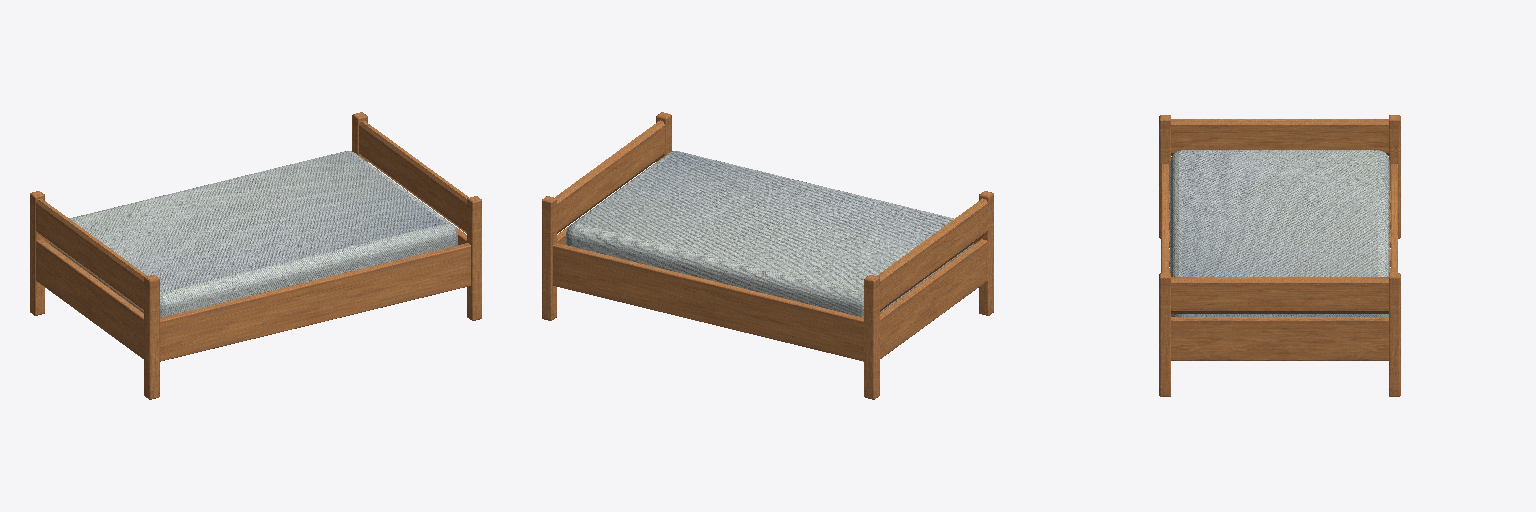
3 views of the same model, side by side, from view 1: azimuth 30°, elevation 25°; view 2: azimuth 150°, elevation 25°; view 3: azimuth 270°, elevation 25° (orthographic).
Parts seen in each view (by area): view 1: mattress, Cube_2_4, Cube_2_2, Cube_3_2, Cube_3, Cube_2_3, Cube, Cube_1_2; view 2: mattress, Cube_3_3, Cube_2_2, Cube_3_2, Cube_3, Cube_1_2, Cube_1, Cube_2_3; view 3: mattress, Cube_2, Cube_3, Cube_3_2, Cube, Cube_1, Cube_2_4, Cube_1_2, Cube_2_3, Cube_3_3.
Boxes of the visible parts, x1,y1,x2,y2 form: mattress: [50, 151, 457, 317]; Cube_2_4: [160, 243, 470, 361]; Cube_2_2: [36, 239, 143, 358]; Cube_3_2: [36, 198, 146, 311]; Cube_3: [359, 120, 468, 233]; Cube_2_3: [144, 275, 159, 399]; Cube: [467, 196, 481, 320]; Cube_1_2: [30, 191, 44, 315]; mattress: [566, 151, 973, 317]; Cube_3_3: [553, 243, 863, 361]; Cube_2_2: [880, 239, 987, 358]; Cube_3_2: [877, 198, 987, 311]; Cube_3: [555, 120, 664, 233]; Cube_1_2: [864, 275, 879, 399]; Cube_1: [542, 196, 556, 320]; Cube_2_3: [979, 191, 993, 315]; mattress: [1170, 150, 1389, 316]; Cube_2: [1171, 317, 1388, 360]; Cube_3: [1171, 277, 1388, 313]; Cube_3_2: [1171, 119, 1388, 155]; Cube: [1159, 273, 1170, 396]; Cube_1: [1389, 273, 1400, 396]; Cube_2_4: [1161, 164, 1168, 272]; Cube_1_2: [1389, 115, 1400, 238]; Cube_2_3: [1159, 115, 1170, 238]; Cube_3_3: [1391, 164, 1397, 272].
Bounding box in the file's own units: 2415 × 830 × 1515.
2 materials, 2 textured.